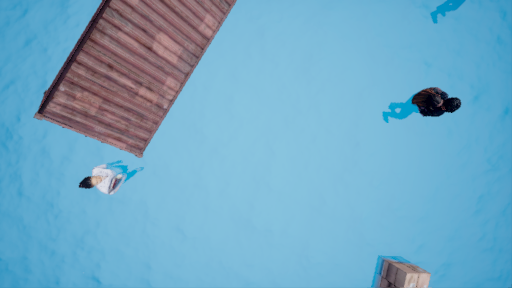person: (373, 84, 466, 133), (77, 158, 152, 195)
